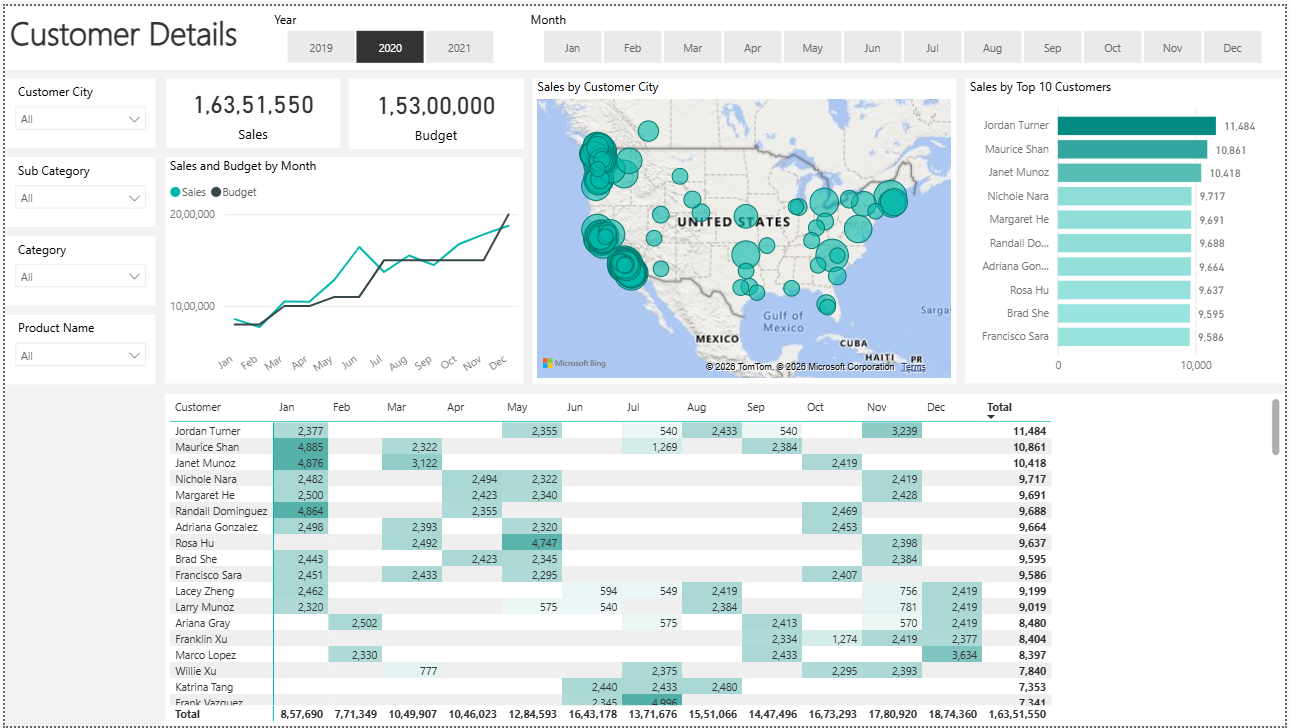

What the dashboard file says about the page in this screenshot:
{"tool":"powerbi","page":{"name":"Customer Details","canvas":[1280,720],"ordinal":1},"visuals":[{"type":"textbox","box":[0,0,1280,64],"z":0},{"type":"slicer","fields":{"Values":["DIM_Calendar.Year"]},"box":[256,0,256,64],"z":1000},{"type":"slicer","fields":{"Values":["DIM_Calendar.MonthShort"]},"box":[512,0,768,64],"z":2000},{"type":"slicer","fields":{"Values":["DIM_Customers.Customer City"]},"box":[0,73,150.5,69.3],"z":3000},{"type":"slicer","fields":{"Values":["DIM_Products.Product Category"]},"box":[0,229.9,150.5,69.3],"z":4000},{"type":"slicer","fields":{"Values":["DIM_Products.Product Name"]},"box":[0,308.4,150.5,69.3],"z":5000},{"type":"slicer","fields":{"Values":["DIM_Products.Sub Category"]},"box":[0,151.4,150.5,69.3],"z":6000},{"type":"lineChart","fields":{"Category":["DIM_Calendar.MonthShort"],"Y":["Analysis Metrics.Sales","Analysis Metrics.Budget"]},"box":[159.8,151.8,358.7,226.4],"z":7000},{"type":"card","fields":{"Values":["Analysis Metrics.Sales"]},"box":[160.7,72.8,174,69.2],"z":8000},{"type":"map","fields":{"Category":["DIM_Customers.Customer City"],"Size":["Analysis Metrics.Sales"]},"box":[527.3,72.8,423.5,304.5],"z":9000},{"type":"card","fields":{"Values":["Analysis Metrics.Budget"]},"box":[343.6,72.8,174.9,70.1],"z":10000},{"type":"pivotTable","fields":{"Columns":["DIM_Calendar.MonthShort"],"Rows":["DIM_Customers.Full Name"],"Values":["Analysis Metrics.Sales"]},"box":[159.8,387.1,1120.4,332.9],"z":11000},{"type":"barChart","title":"Sales by Top 10 Customers","fields":{"Category":["DIM_Customers.Full Name"],"Y":["Analysis Metrics.Sales"]},"box":[959.7,72.8,320.5,304.5],"z":12000}]}

Visuals, with their boxes in screenshot pixels (x1, y1, x2, y2), scaled from the page's 1280x720 canvas onto the 1290x728 screenshot:
textbox: region(0, 0, 1289, 65)
slicer - DIM_Calendar.Year: region(258, 0, 516, 65)
slicer - DIM_Calendar.MonthShort: region(516, 0, 1289, 65)
slicer - DIM_Customers.Customer City: region(0, 74, 152, 144)
slicer - DIM_Products.Product Category: region(0, 232, 152, 303)
slicer - DIM_Products.Product Name: region(0, 312, 152, 382)
slicer - DIM_Products.Sub Category: region(0, 153, 152, 223)
lineChart - DIM_Calendar.MonthShort x Analysis Metrics.Sales: region(161, 153, 523, 382)
card - Analysis Metrics.Sales: region(162, 74, 337, 144)
map - DIM_Customers.Customer City x Analysis Metrics.Sales: region(531, 74, 958, 381)
card - Analysis Metrics.Budget: region(346, 74, 523, 144)
pivotTable - DIM_Calendar.MonthShort x DIM_Customers.Full Name: region(161, 391, 1289, 727)
"Sales by Top 10 Customers" barChart: region(967, 74, 1289, 381)
